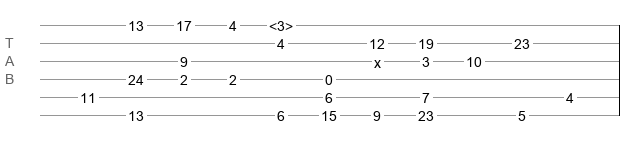0: (325, 72, 333, 82)
10: (466, 54, 482, 64)
11: (80, 90, 96, 100)
12: (369, 36, 385, 46)
13: (128, 108, 144, 118), (128, 18, 144, 28)
15: (321, 108, 337, 118)
17: (176, 18, 192, 28)
19: (418, 36, 434, 46)
2: (180, 72, 188, 82), (229, 72, 237, 82)
23: (418, 108, 434, 118), (514, 36, 530, 46)
24: (128, 72, 144, 82)
3: (422, 54, 430, 64)
4: (229, 18, 237, 28), (277, 36, 285, 46), (566, 90, 574, 100)
5: (518, 108, 526, 118)
6: (277, 108, 285, 118), (325, 90, 333, 100)
7: (422, 90, 430, 100)
9: (180, 54, 188, 64), (373, 108, 381, 118)
harmonic: (269, 18, 293, 28)
x: (374, 55, 381, 63)
